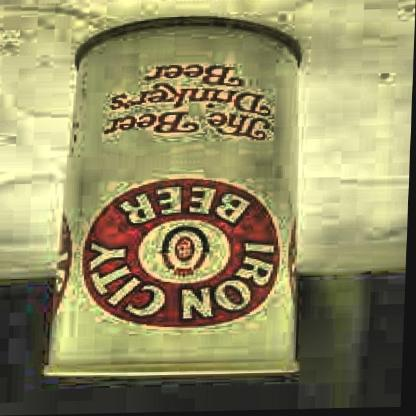Can: (42, 11, 314, 385)
